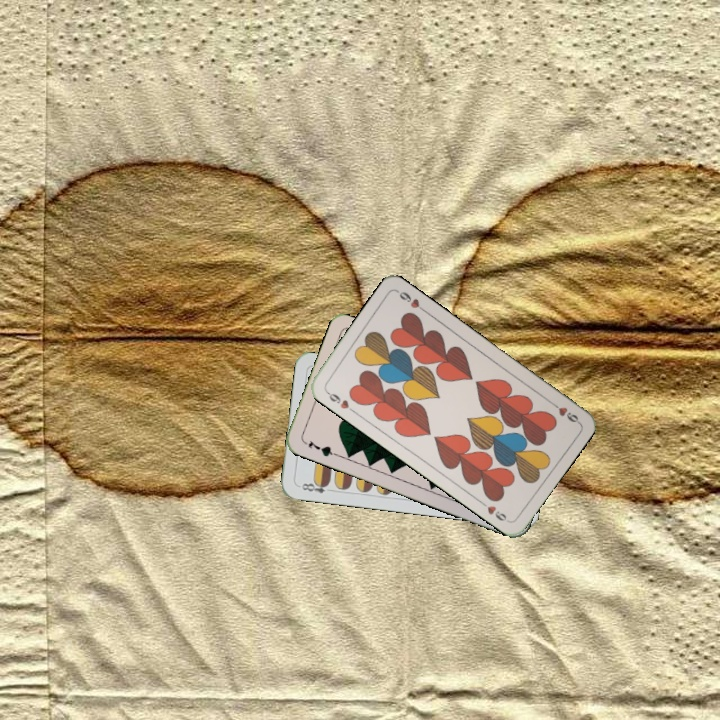E8: (297, 477, 335, 496)
G7: (300, 437, 339, 459)
H9: (322, 386, 357, 415), (546, 397, 581, 426)
